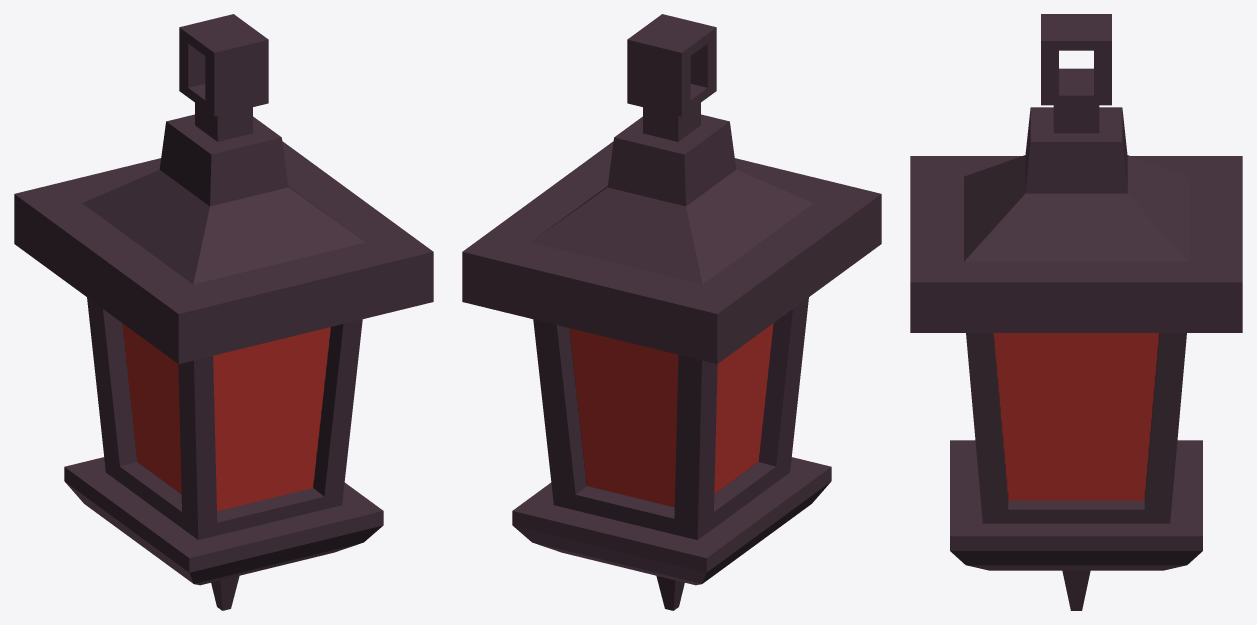
File: LanternHook.glb
3 renders of one model, left to right at view 1: azimuth 30°, elevation 25°; view 2: azimuth 150°, elevation 25°; view 3: azimuth 270°, elevation 25°, orthographic.
Visible parts, largest first — view 1: Cube; view 2: Cube; view 3: Cube.
Boxes of the visible parts, <box> form: Cube: <box>14,14,433,610</box>; Cube: <box>462,14,881,610</box>; Cube: <box>910,14,1242,610</box>.
Size of the model in its own units: 0.1071 by 0.2304 by 0.1194.
Materials: 2 (2 with a texture image).
